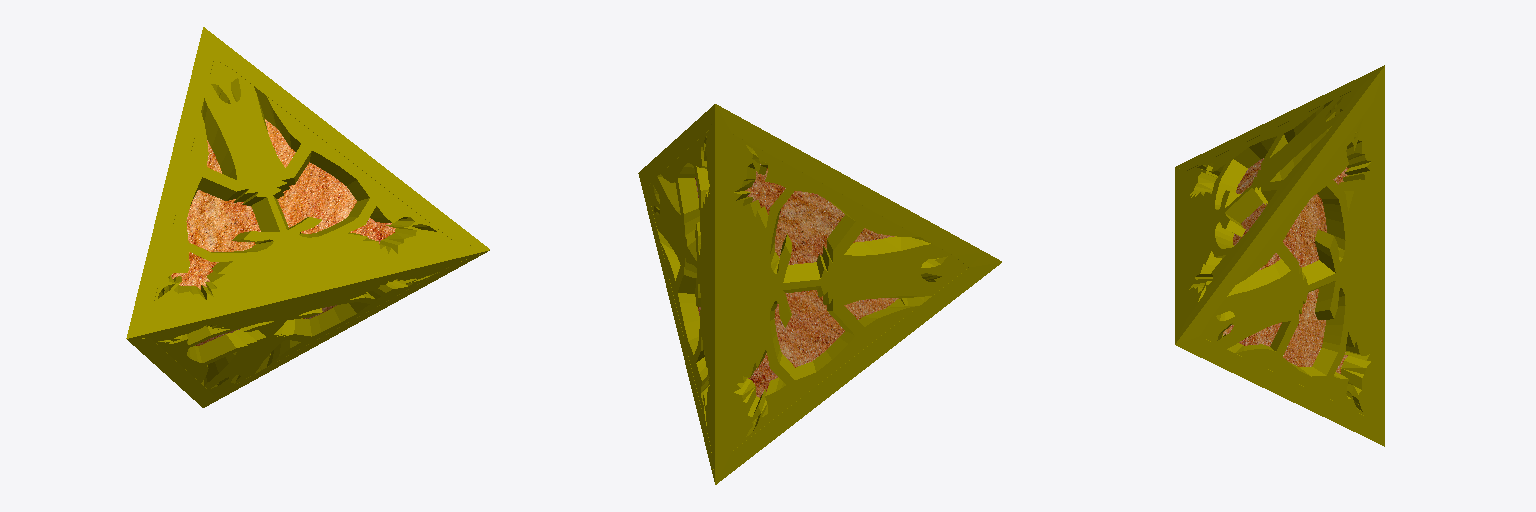
The picture shows the model from 3 angles: view 1: azimuth 30°, elevation 25°; view 2: azimuth 150°, elevation 25°; view 3: azimuth 270°, elevation 25°; orthographic projection.
Visible parts, largest first — view 1: Cube.001_Cube.005; view 2: Cube.001_Cube.005; view 3: Cube.001_Cube.005.
Boxes of the visible parts, <box> form: Cube.001_Cube.005: <box>126,27,489,407</box>; Cube.001_Cube.005: <box>638,104,1001,484</box>; Cube.001_Cube.005: <box>1175,65,1384,446</box>.
Size of the model in its own units: 4 by 4 by 2.
2 materials, 1 textured.